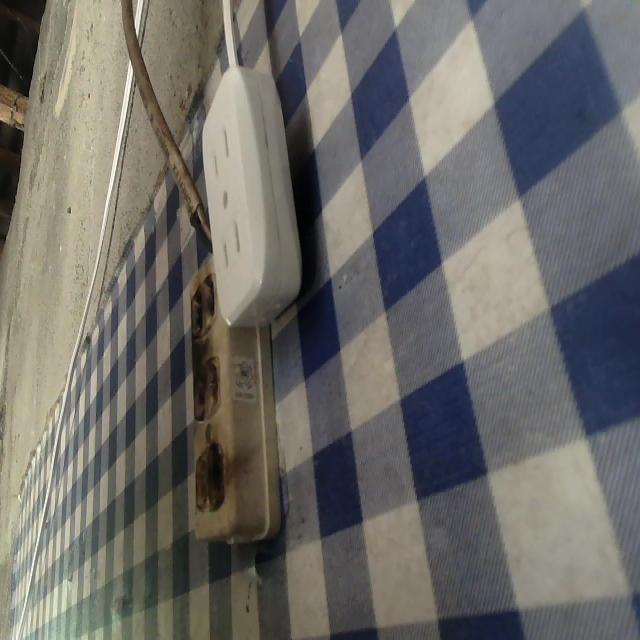-: (188, 436, 234, 516), (182, 357, 229, 423), (181, 275, 223, 336)
